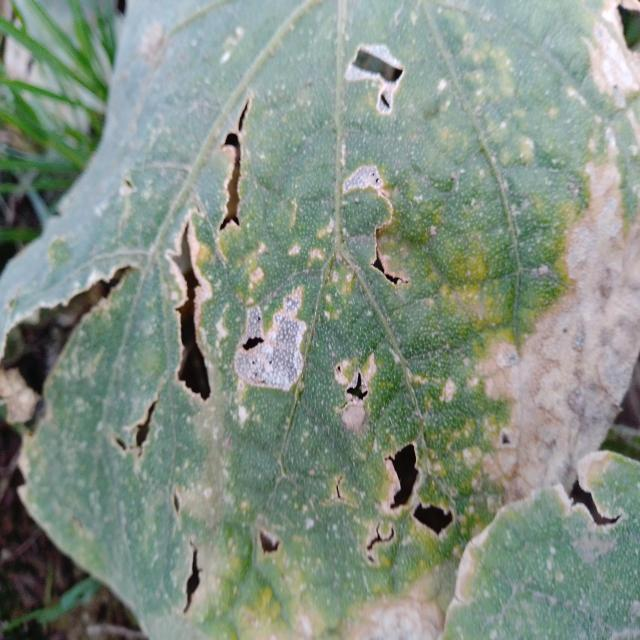cucumber_anthracnose: (118, 8, 634, 607), (11, 176, 114, 484)
